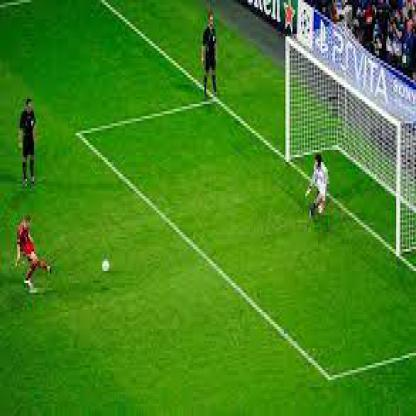penalty kick: (14, 25, 373, 282)
